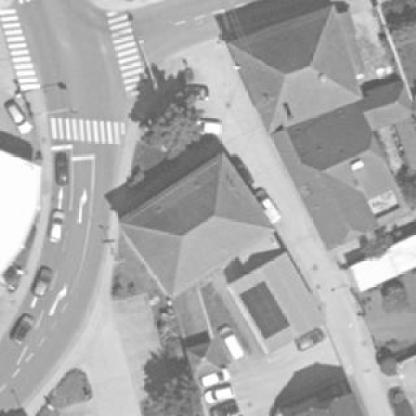solar-pv-panel: (240, 280, 290, 340)
